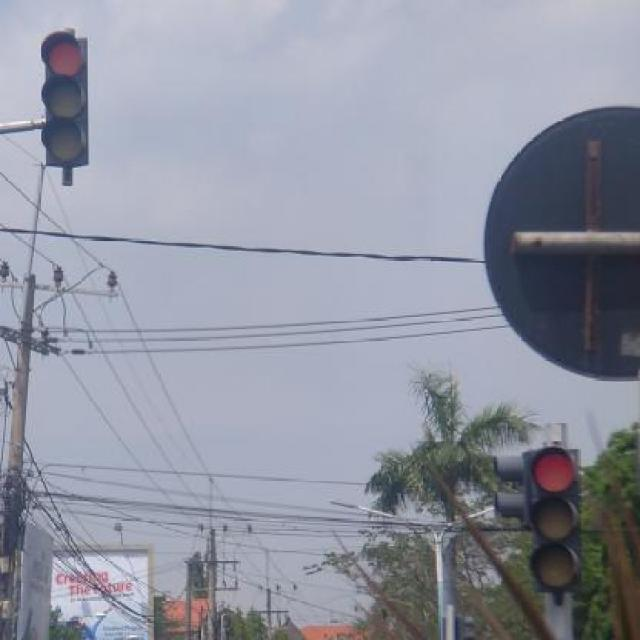traffic light: (524, 446, 580, 589), (47, 35, 87, 169)
